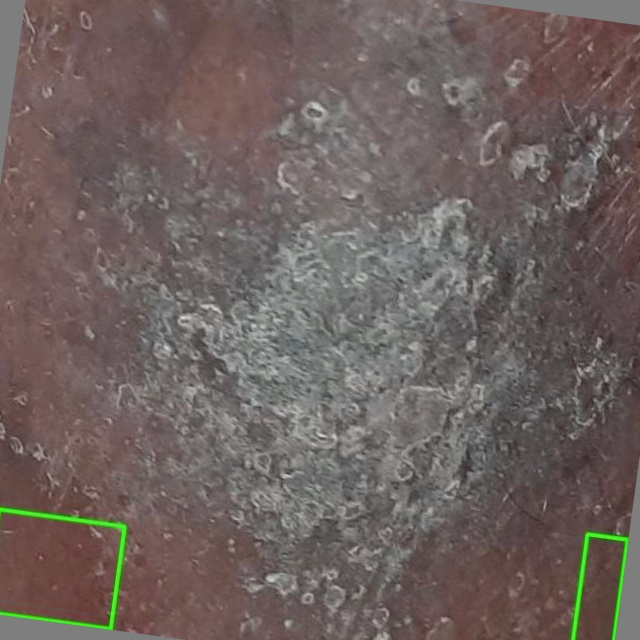Tinea Corporis: (0, 509, 123, 628), (571, 533, 627, 639)
